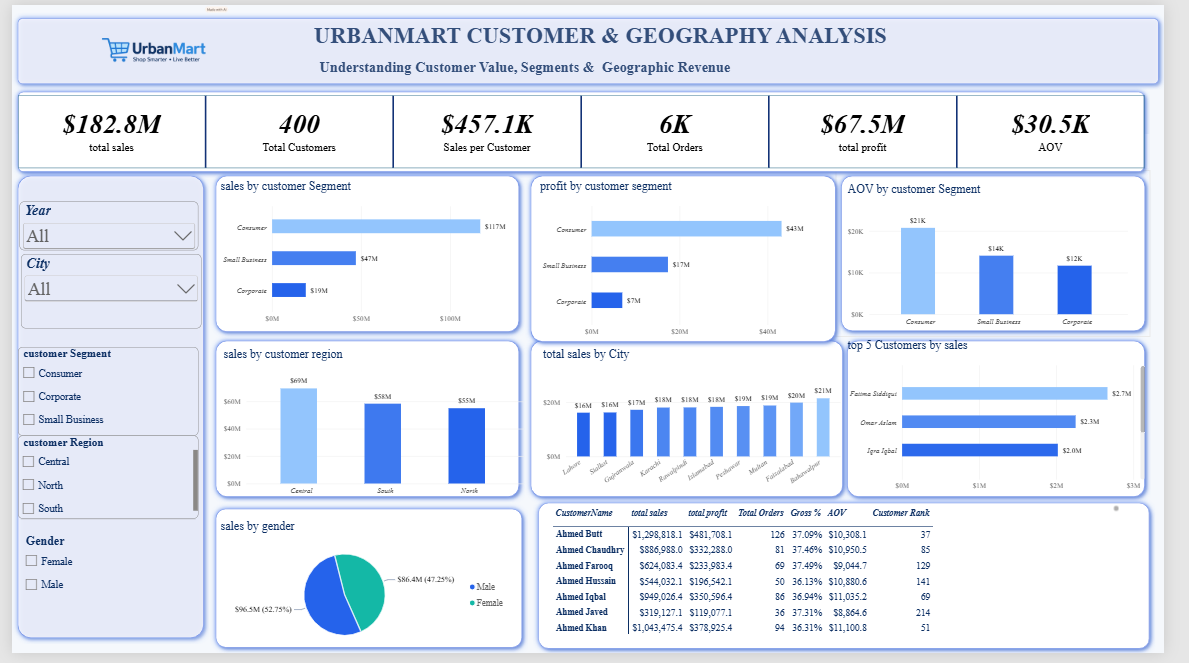

The page's visual inventory and layout, read from the dashboard file:
{"tool":"powerbi","page":{"name":"customer & geography analysis","canvas":[1920,1080],"ordinal":2},"visuals":[{"type":"group","id":"g1","title":"Group 3","box":[0,11.9,1920.7,128.8],"z":0},{"type":"shape","box":[0,136,1896.8,152.7],"z":0,"group":"g2"},{"type":"textbox","box":[513,90.7,835.1,31],"z":1000},{"type":"cardVisual","fields":{"Data":["kpis.total net sales","kpis.Total Customers","kpis.Sales per Customer","kpis.total orders","kpis.total profit","kpis.AOV"]},"box":[9.5,150.3,1880.1,122.7],"z":1000,"group":"g2"},{"type":"shape","box":[0,11.9,1920.7,128.8],"z":2000,"group":"g1"},{"type":"shape","box":[1372,274.4,525.7,278],"z":2000},{"type":"textbox","box":[55.9,28.8,1851.9,52.8],"z":3000,"group":"g1"},{"type":"group","id":"g2","title":"Group 1","box":[0,136,1896.8,155.1],"z":3000},{"type":"shape","box":[329.3,551.1,524.9,279.2],"z":4000},{"type":"shape","box":[854.2,551.1,539.2,279.2],"z":5000},{"type":"shape","box":[1381.4,551.1,515.4,279.2],"z":6000},{"type":"shape","box":[329.3,274.4,524.9,279.2],"z":7000},{"type":"shape","box":[854.2,274.4,527.3,295.9],"z":8000},{"type":"clusteredBarChart","title":" sales by customer Segment","fields":{"Category":["Dim_Customer.Segment"],"Y":["kpis.total sales"]},"box":[348.3,291.1,493.9,243.4],"z":9000},{"type":"clusteredBarChart","title":"profit by customer segment","fields":{"Category":["Dim_Customer.Segment"],"Y":["kpis.total profit"]},"box":[880.4,291.1,467.6,264.8],"z":10000},{"type":"clusteredColumnChart","title":"AOV by customer Segment","fields":{"Category":["Dim_Customer.Segment"],"Y":["kpis.AOV"]},"box":[1393.4,295.9,467.6,243.4],"z":11000},{"type":"clusteredColumnChart","title":"sales by customer region","fields":{"Category":["Dim_Customer.Region"],"Y":["kpis.total sales"]},"box":[353.1,570.2,501,250.5],"z":12000},{"type":"columnChart","fields":{"Category":["Dim_Customer.City"],"Y":["kpis.total sales"]},"box":[885.2,570.2,496.3,243.4],"z":13000},{"type":"barChart","title":"top 5 Customers by sales","fields":{"Category":["Dim_Customer.CustomerName"],"Y":["kpis.total sales"]},"box":[1393.4,555.9,496.3,257.7],"z":14000},{"type":"shape","box":[868.5,820.8,1037.9,262.5],"z":15000},{"type":"pivotTable","fields":{"Rows":["Dim_Customer.CustomerName"],"Values":["kpis.total sales","kpis.total profit","kpis.Total Orders","kpis.Gross margin%","kpis.AOV","kpis.Customer Rank"]},"box":[885.2,820.8,975.8,243.4],"z":16000},{"type":"shape","box":[329.3,830.3,529.7,250.5],"z":17000},{"type":"pieChart","title":"sales by gender","fields":{"Category":["Dim_Customer.Gender"],"Y":["kpis.total sales"]},"box":[348.3,856.5,479.6,212.3],"z":18000},{"type":"shape","box":[0,274.4,329.3,789.7],"z":19000},{"type":"slicer","fields":{"Values":["DimDate.Year"]},"box":[11.9,326.9,298.2,81.1],"z":20000},{"type":"slicer","title":"customer segments","fields":{"Values":["Dim_Customer.Segment"]},"box":[9.5,570.2,300.6,147.9],"z":21000},{"type":"slicer","fields":{"Values":["Dim_Customer.Region"]},"box":[9.5,718.2,300.6,138.4],"z":22000},{"type":"slicer","fields":{"Values":["Dim_Customer.Gender"]},"box":[14.3,882.8,300.6,116.9],"z":23000},{"type":"slicer","fields":{"Values":["Dim_Customer.City"]},"box":[14.3,415.1,300.6,124.1],"z":24000},{"type":"image","box":[0,0,474.8,167],"z":24001}]}

Visuals, with their boxes in screenshot pixels (x1, y1, x2, y2), scaled from the page's 1920x1080 canvas onto the 1189x663 screenshot:
"Group 3" group: 0:7:1188:86
shape: 0:83:1175:177
textbox: 318:56:835:75
cardVisual - kpis.total net sales x kpis.Total Customers: 6:92:1170:168
shape: 0:7:1188:86
shape: 850:168:1175:339
textbox: 35:18:1181:50
"Group 1" group: 0:83:1175:179
shape: 204:338:529:510
shape: 529:338:863:510
shape: 855:338:1175:510
shape: 204:168:529:340
shape: 529:168:856:350
" sales by customer Segment" clusteredBarChart: 216:179:522:328
"profit by customer segment" clusteredBarChart: 545:179:835:341
"AOV by customer Segment" clusteredColumnChart: 863:182:1152:331
"sales by customer region" clusteredColumnChart: 219:350:529:504
columnChart - Dim_Customer.City x kpis.total sales: 548:350:856:499
"top 5 Customers by sales" barChart: 863:341:1170:499
shape: 538:504:1181:662
pivotTable - Dim_Customer.CustomerName x kpis.total sales: 548:504:1152:653
shape: 204:510:532:662
"sales by gender" pieChart: 216:526:513:656
shape: 0:168:204:653
slicer - DimDate.Year: 7:201:192:250
"customer segments" slicer: 6:350:192:441
slicer - Dim_Customer.Region: 6:441:192:526
slicer - Dim_Customer.Gender: 9:542:195:614
slicer - Dim_Customer.City: 9:255:195:331
image: 0:0:294:103
